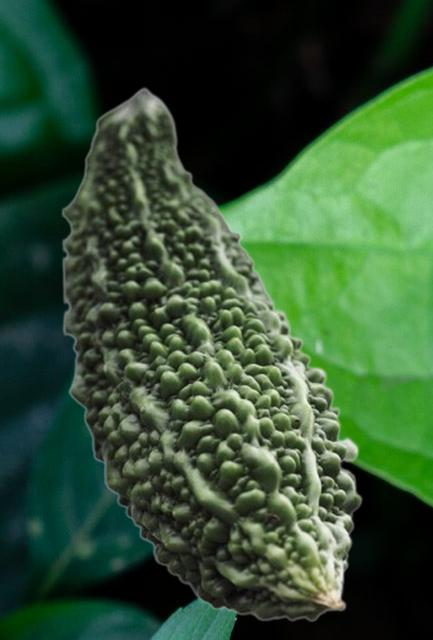ampalaya: (61, 86, 362, 621)
